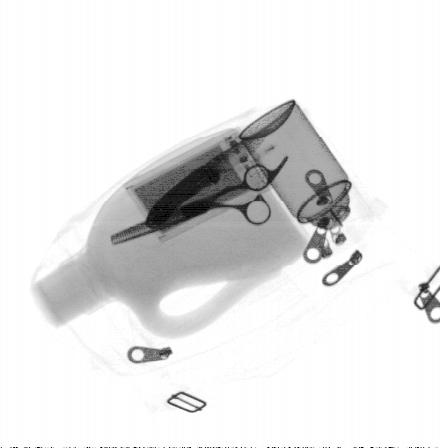Knife: (147, 125, 270, 227)
Powerbank: (125, 126, 273, 247)
Scissors: (110, 153, 291, 247)
Sprayer: (239, 99, 375, 258)
